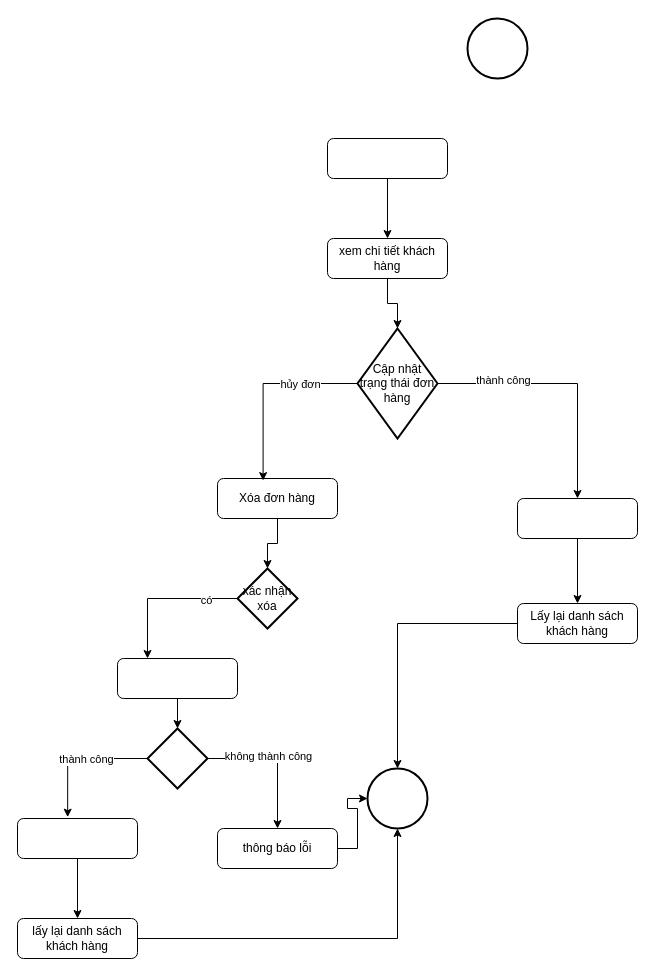
This 655x976 diagram has some shape labels left out. The shapes that lost their labels are listed below. From the top down, each one's centre as x and y in pixels, then its label:
the point at 387,158: Danh sách khách hàng
the point at 577,518: Giao thành công
the point at 177,678: Xóa
the point at 77,838: Thông báo thành công
